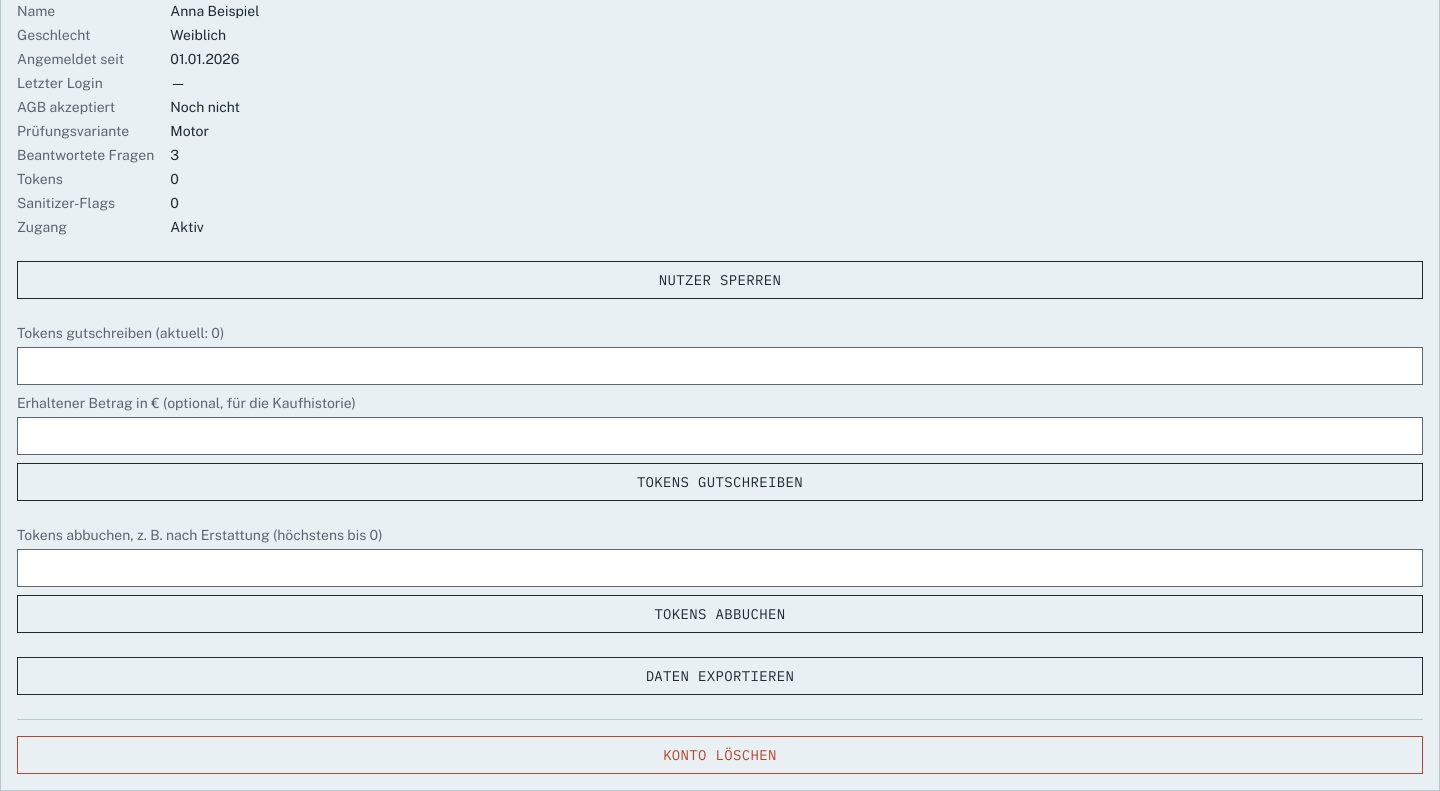
Test: AdminUserPage › asks for a fresh code when deleting needs one, keeping the confirmation open
(page scrolled)
Click the button "Konto löschen" at {"x": 720, "y": 755}, box [17,736,1423,774]
(page scrolled)
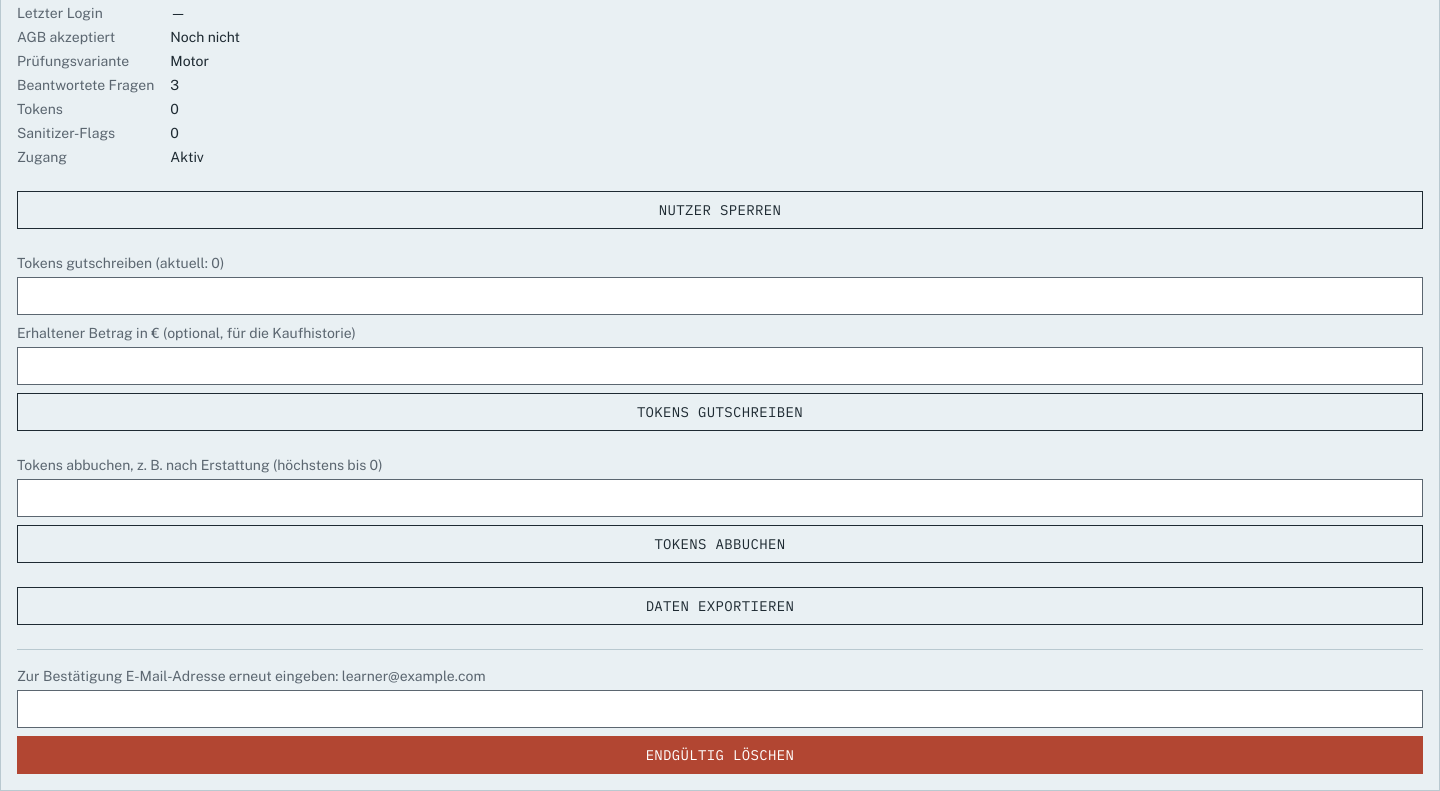
Type "learner@example.com" into the field labelled "Zur Bestätigung" at {"x": 720, "y": 709}, box [17,690,1423,728]
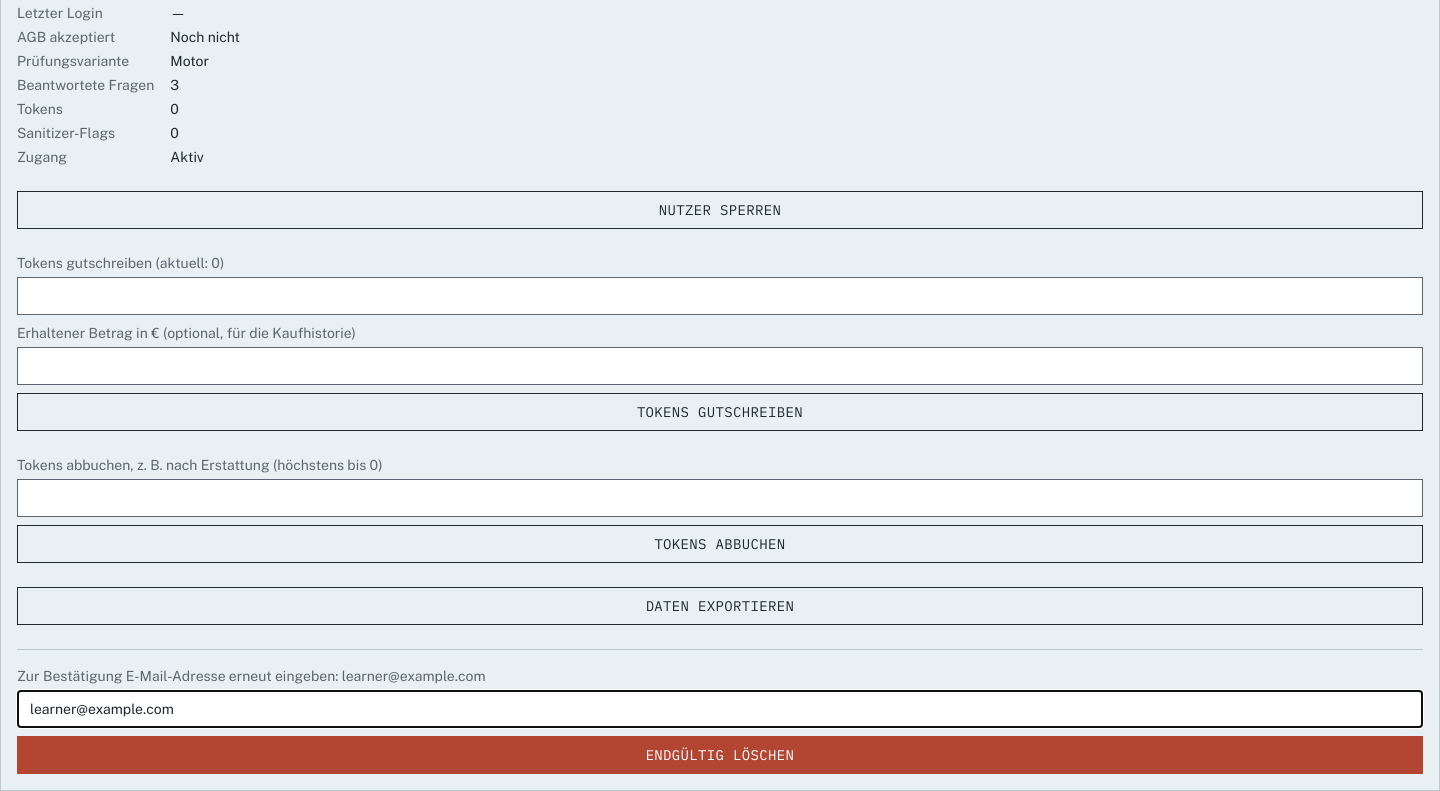
Click the button "Endgültig löschen" at {"x": 720, "y": 755}, box [17,736,1423,774]
(page scrolled)
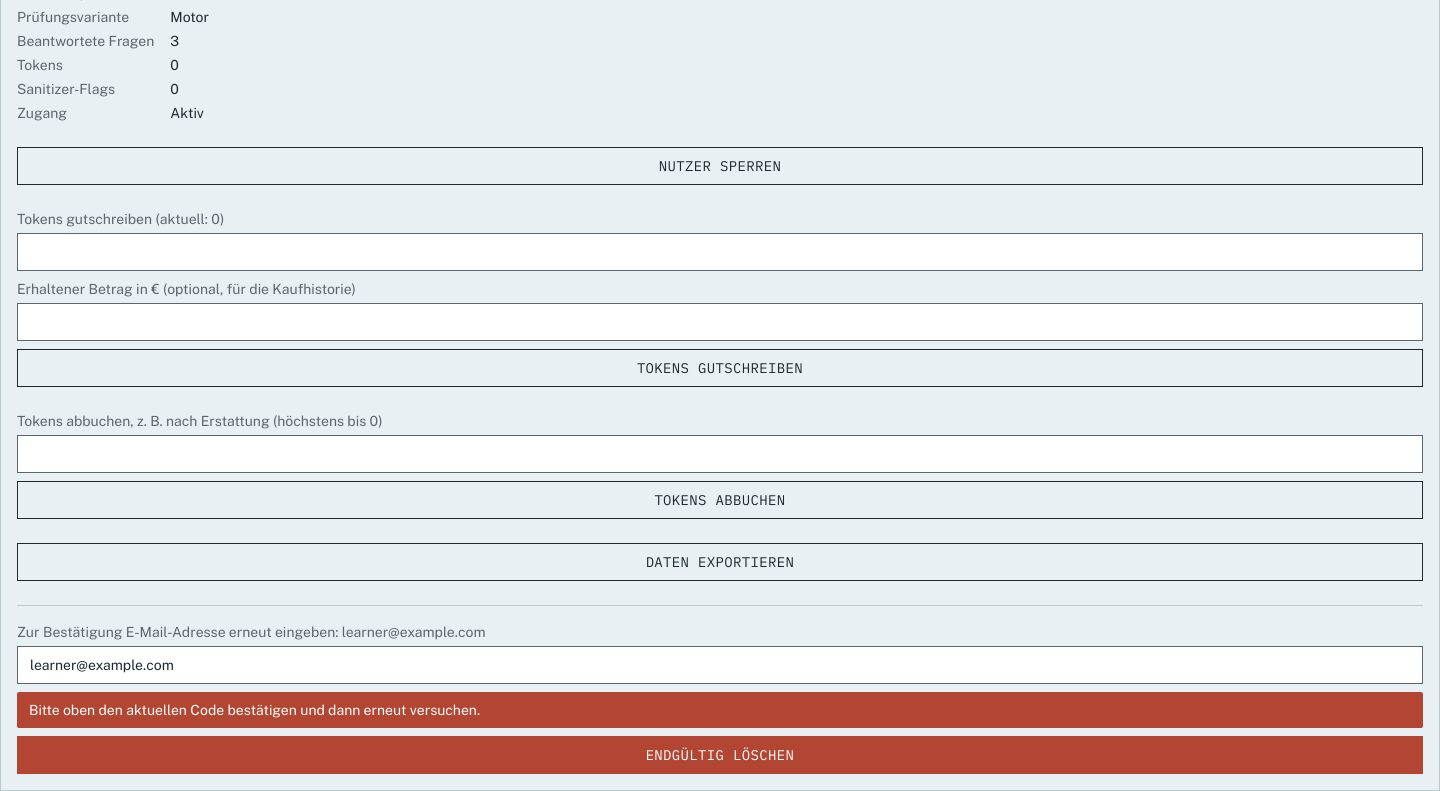
Now the button "Endgültig löschen" is shown, box [17,736,1423,774]
Now the text "Bitte oben den aktuellen Code bestätigen und dann erneut versuchen." is shown, box [29,700,480,720]
